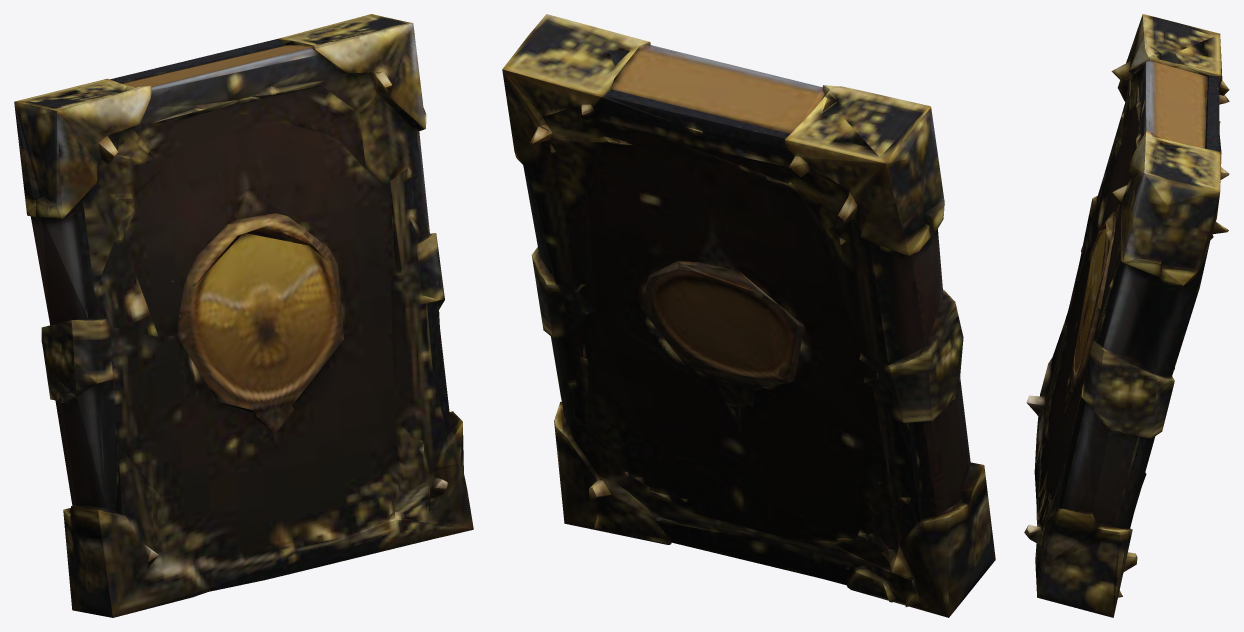
The model's file is book.glb.
The picture shows the model from 3 angles, left to right: view 1: azimuth 30°, elevation 25°; view 2: azimuth 150°, elevation 25°; view 3: azimuth 270°, elevation 25°; orthographic projection. The views are drawn at different scales.
Visible parts, largest first — view 1: geometry_0; view 2: geometry_0; view 3: geometry_0.
Boxes of the visible parts, <box> form: geometry_0: <box>14,14,473,617</box>; geometry_0: <box>502,14,995,617</box>; geometry_0: <box>1024,14,1229,617</box>.
Size of the model in its own units: 0.8127 by 0.9919 by 0.415.
1 material, 1 textured.
